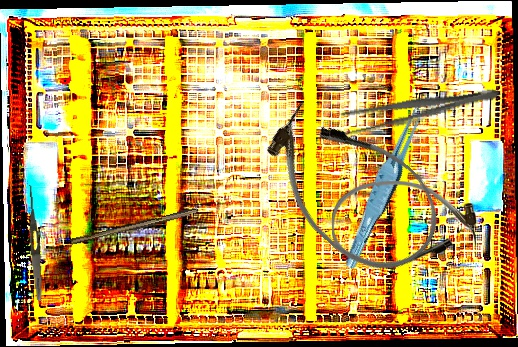Cannula: (243, 84, 460, 294), (331, 179, 477, 269)
Dressing Forceps: (326, 79, 503, 142), (24, 184, 45, 302)
Scalpel Handle: (69, 205, 200, 249)
Tissue Forceps: (331, 97, 441, 271)
